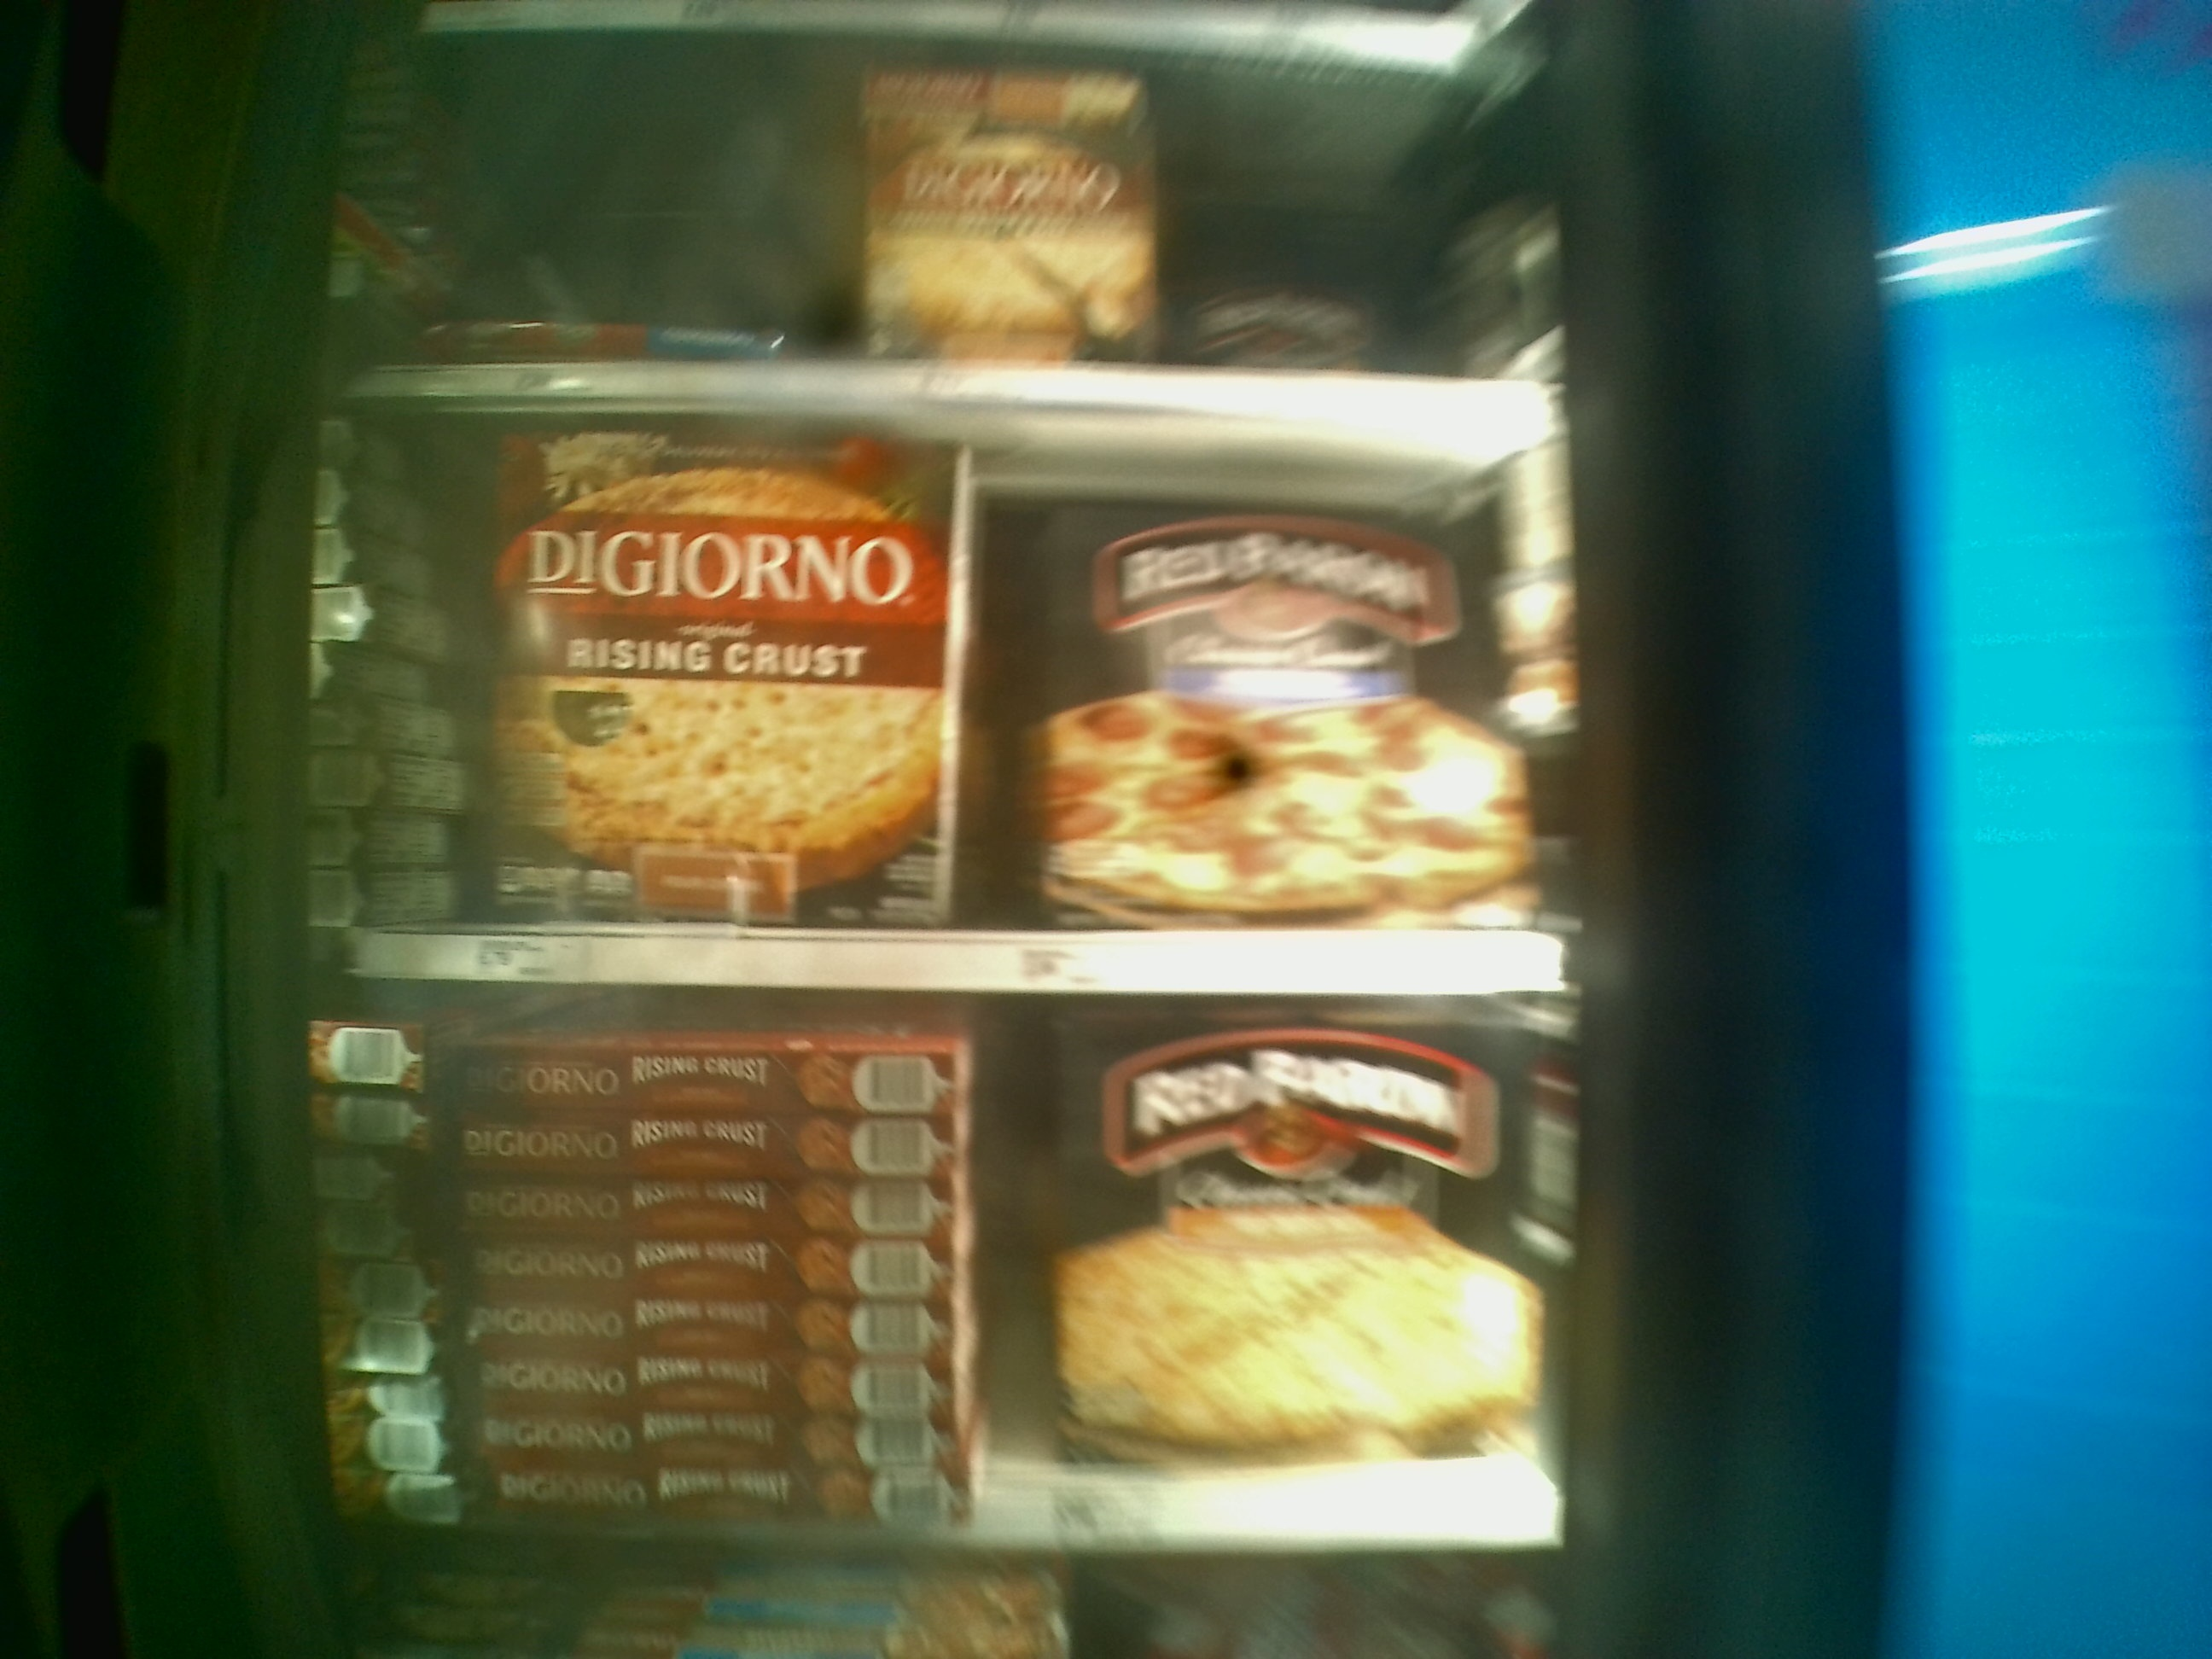shelf: (352, 390, 1578, 992), (352, 976, 1580, 1549)
